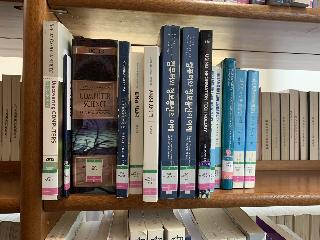book-spine: (70, 38, 118, 195), (159, 25, 181, 199), (179, 27, 199, 198), (43, 21, 58, 200), (198, 30, 213, 198), (143, 47, 158, 201), (129, 52, 144, 195), (116, 41, 129, 198), (222, 58, 236, 190), (233, 70, 246, 188), (245, 70, 258, 188), (214, 69, 223, 188), (210, 66, 216, 192), (64, 55, 67, 198)
